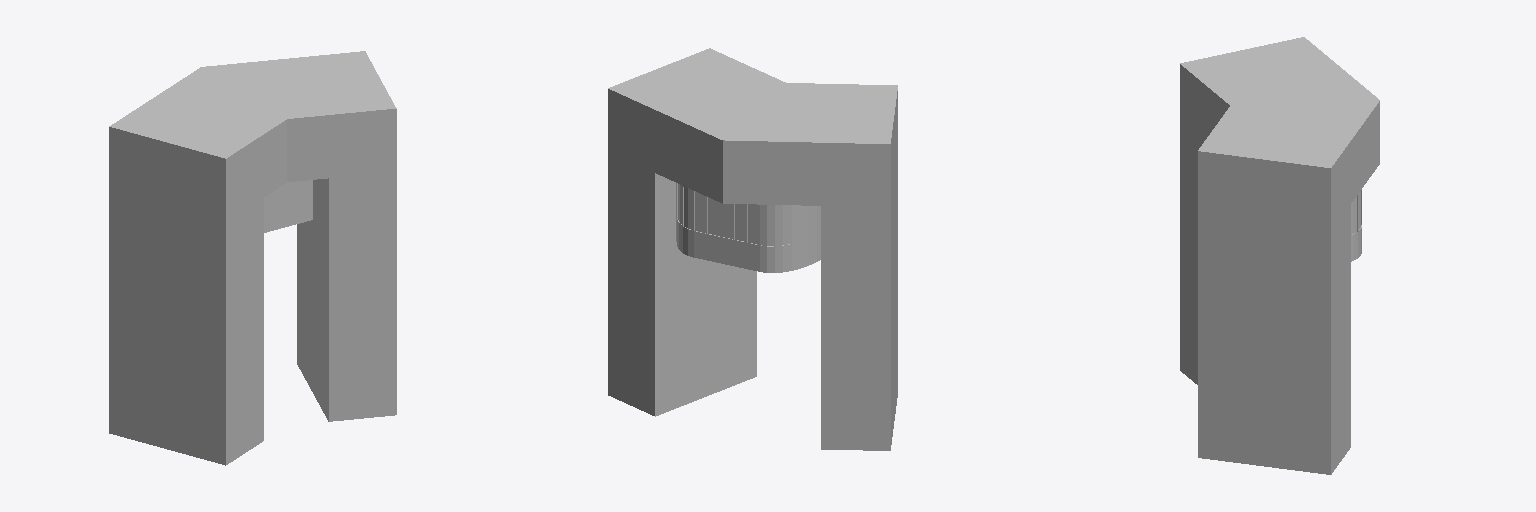
Rendered from Assembly04.obj.
3 views of the same model, side by side, from view 1: azimuth 30°, elevation 25°; view 2: azimuth 150°, elevation 25°; view 3: azimuth 270°, elevation 25° (orthographic).
Parts seen in each view (by area): view 1: RoundedBlock01.003_Cube.538; view 2: RoundedBlock01.003_Cube.538; view 3: RoundedBlock01.003_Cube.538.
Part boxes in pixels (x1,y1,x2,y2): RoundedBlock01.003_Cube.538: (109, 51, 396, 465); RoundedBlock01.003_Cube.538: (608, 48, 897, 450); RoundedBlock01.003_Cube.538: (1180, 37, 1379, 474).
Bounding box in the file's own units: 22.3 × 24.25 × 14.37.